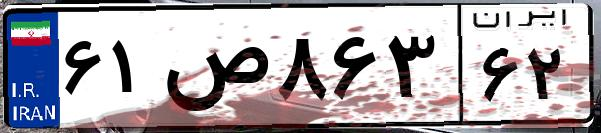1: (110, 28, 158, 98)
2: (525, 38, 570, 115)
3: (385, 28, 445, 110)
6: (330, 28, 385, 110), (57, 26, 110, 100), (475, 38, 525, 113)
8: (270, 28, 330, 110)
ص: (158, 20, 270, 120)
